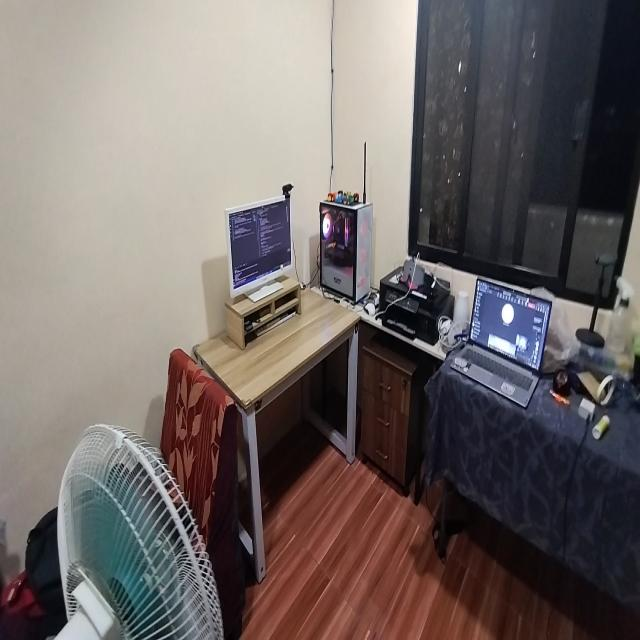table: (194, 280, 362, 572)
